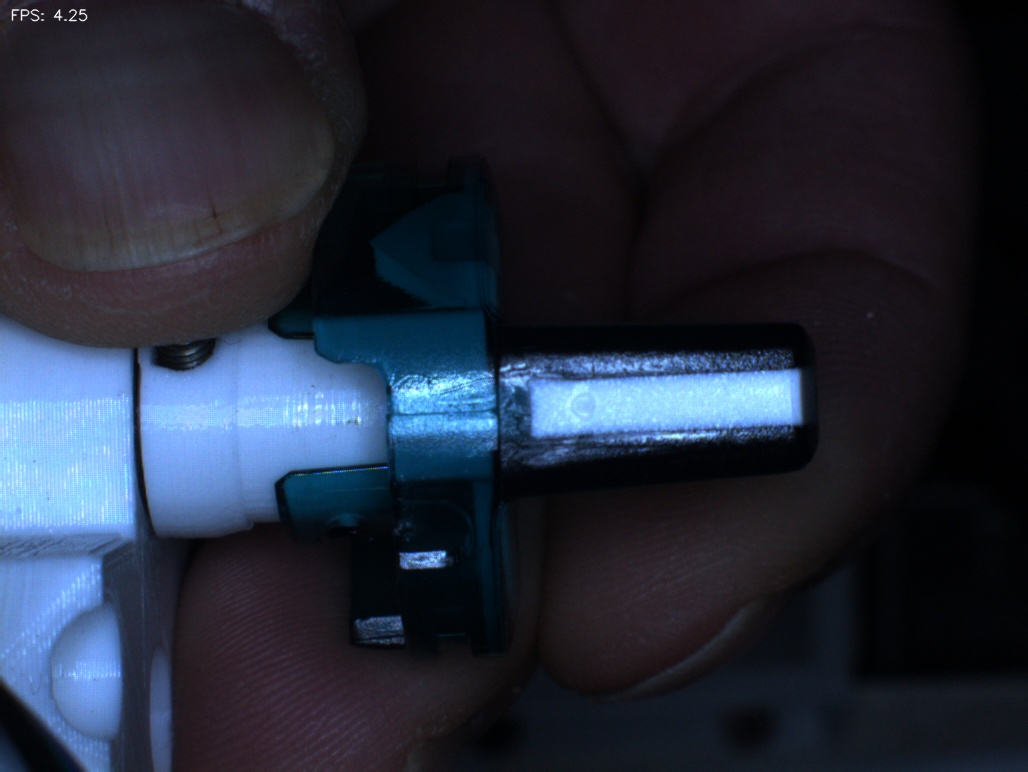DentOk: (342, 212, 415, 301)
